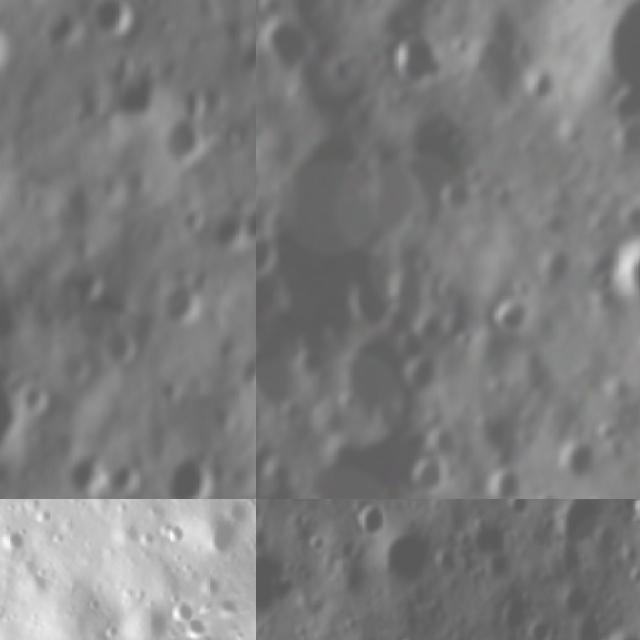crater: (329, 329, 423, 416), (114, 583, 189, 640), (256, 335, 302, 418), (385, 30, 444, 93), (257, 15, 312, 76), (532, 242, 584, 295), (609, 236, 640, 322), (159, 114, 208, 168), (401, 452, 454, 499), (68, 0, 135, 34), (403, 359, 449, 403), (552, 439, 596, 484), (162, 278, 202, 324), (432, 184, 486, 218), (489, 298, 533, 339), (68, 452, 113, 492), (607, 114, 640, 168), (171, 453, 209, 499), (480, 459, 523, 499), (516, 65, 556, 108), (352, 499, 392, 542), (256, 225, 283, 288), (96, 327, 129, 373), (554, 584, 594, 620), (14, 380, 40, 423), (208, 215, 231, 253), (234, 354, 256, 393), (242, 199, 256, 251), (110, 49, 134, 77), (232, 499, 256, 527), (449, 36, 473, 63), (500, 499, 536, 515), (175, 210, 198, 233), (599, 628, 640, 640), (389, 632, 424, 640)
